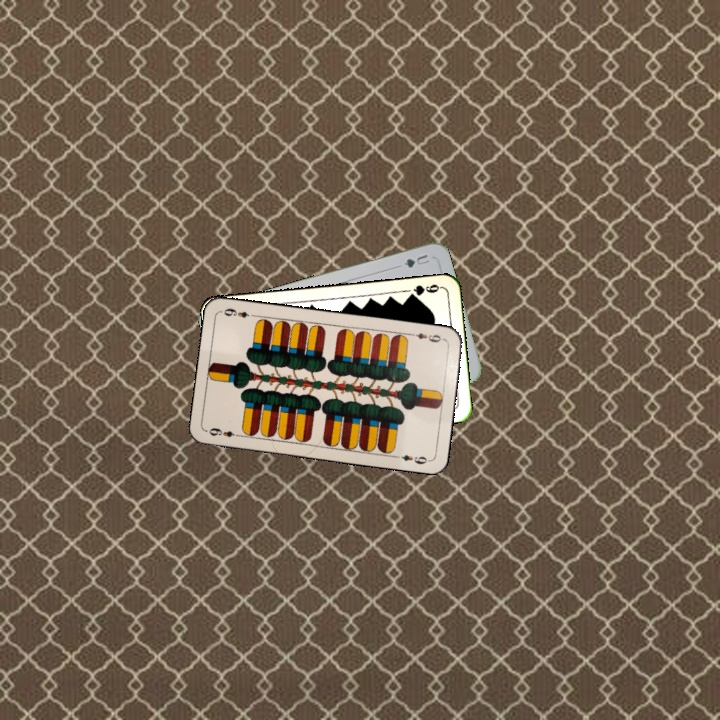E9: (406, 329, 447, 345), (205, 424, 244, 440)
G9: (404, 280, 444, 301)
GU: (399, 250, 432, 270)
